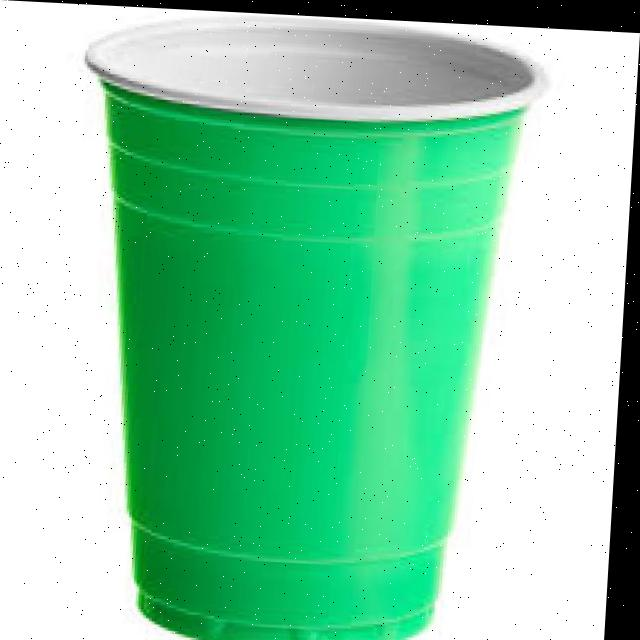cup: (48, 3, 554, 640)
